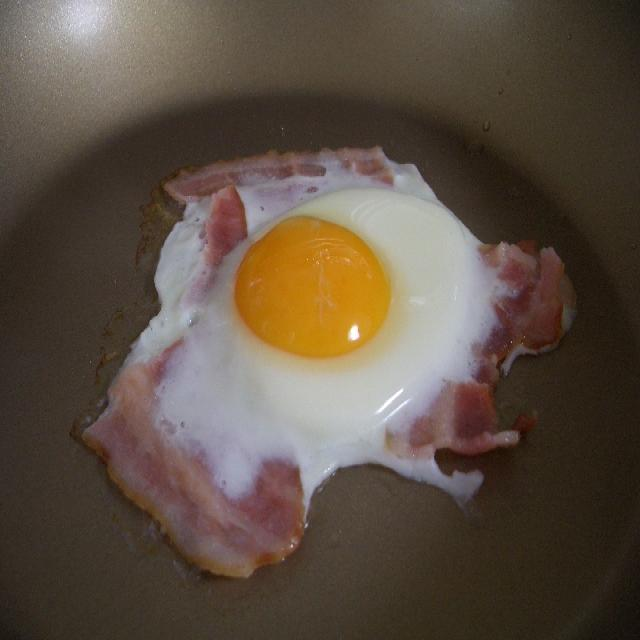Egg: (189, 180, 487, 458)
